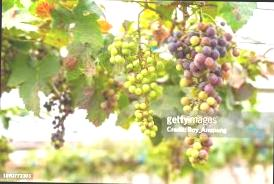Grape Rotten: (165, 18, 240, 116), (104, 35, 168, 138), (183, 132, 213, 166)
